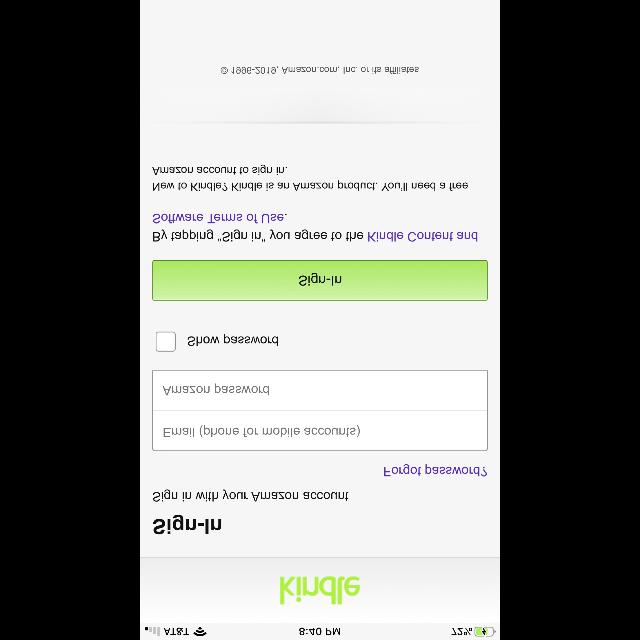checkbox: (157, 332, 176, 352)
input: (152, 411, 488, 451), (152, 371, 488, 411)
text: (153, 214, 477, 242), (152, 165, 468, 191), (164, 425, 360, 437), (154, 489, 348, 501), (280, 576, 360, 604), (221, 66, 419, 74), (153, 514, 221, 534), (163, 383, 269, 395), (384, 464, 488, 476), (188, 334, 278, 346)
textbutton: (152, 260, 488, 300)
uppertaskbar: (140, 622, 500, 640)
